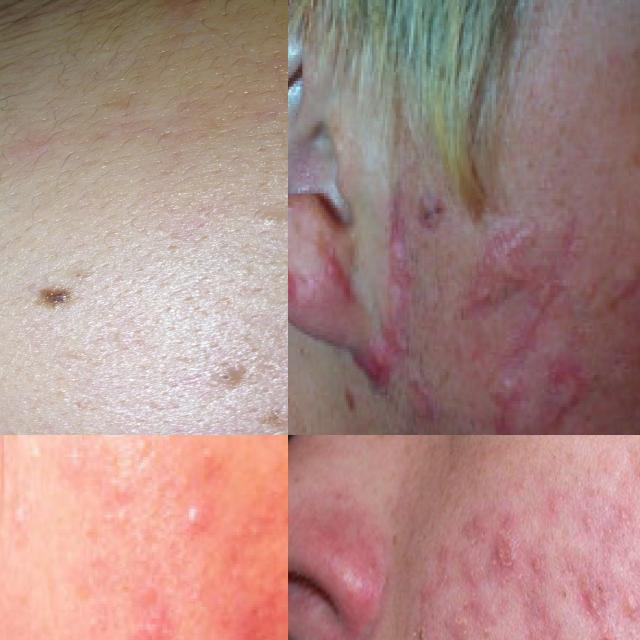comedone: (28, 284, 82, 316)
crystanlline: (486, 520, 533, 586), (581, 590, 613, 638)
